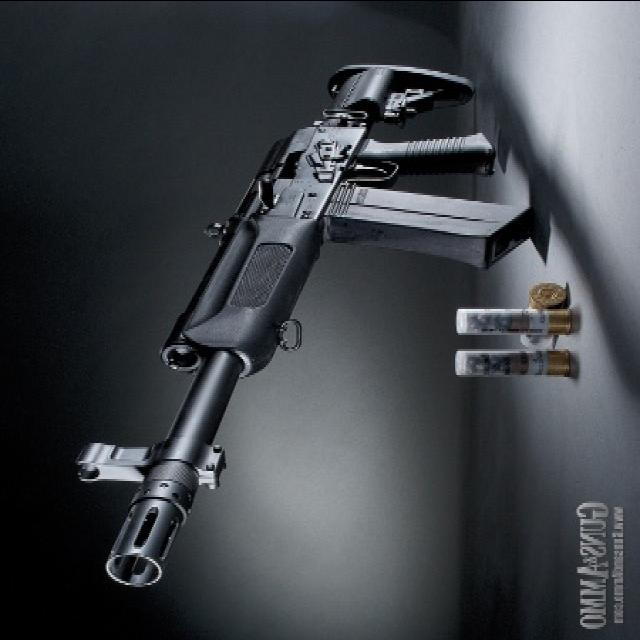rifle: (68, 59, 543, 601)
